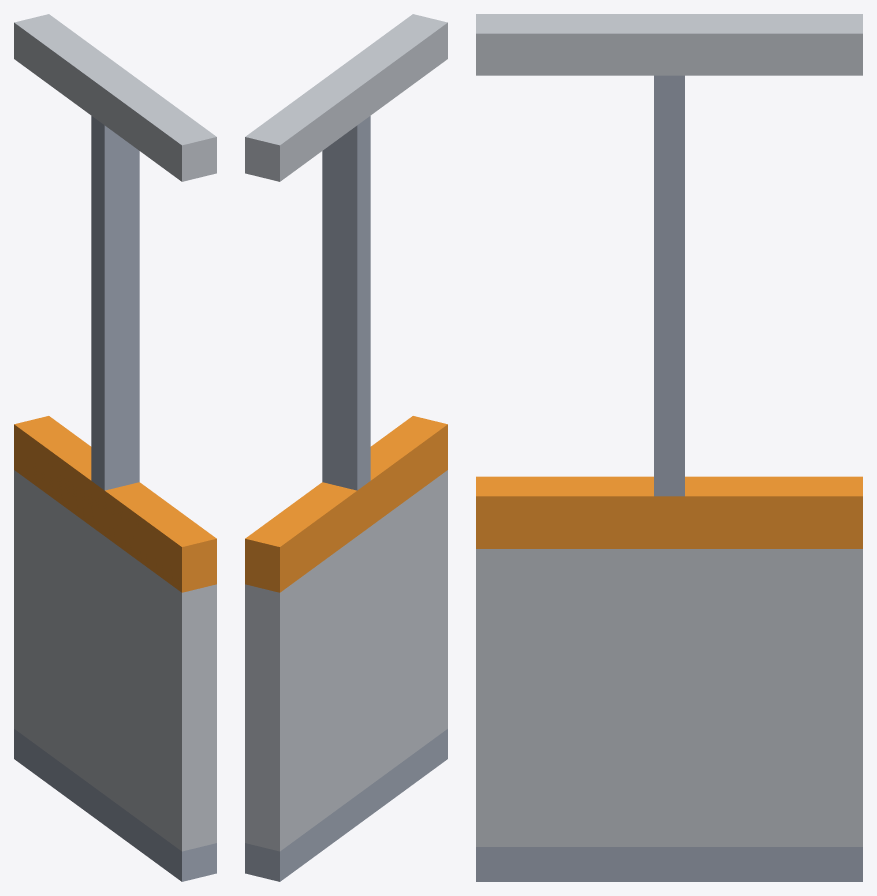
The model's file is corridor_wall_frame.obj.
3 renders of one model, left to right at view 1: azimuth 30°, elevation 25°; view 2: azimuth 150°, elevation 25°; view 3: azimuth 270°, elevation 25°, orthographic. The views are drawn at different scales.
Visible parts, largest first — view 1: corridor_wall_frame; view 2: corridor_wall_frame; view 3: corridor_wall_frame.
Part boxes in pixels (box(x1,y1,x2,y2)): corridor_wall_frame: box(14, 14, 216, 881); corridor_wall_frame: box(245, 14, 447, 881); corridor_wall_frame: box(476, 14, 862, 881).
Size of the model in its own units: 0.12 by 2.42 by 1.
